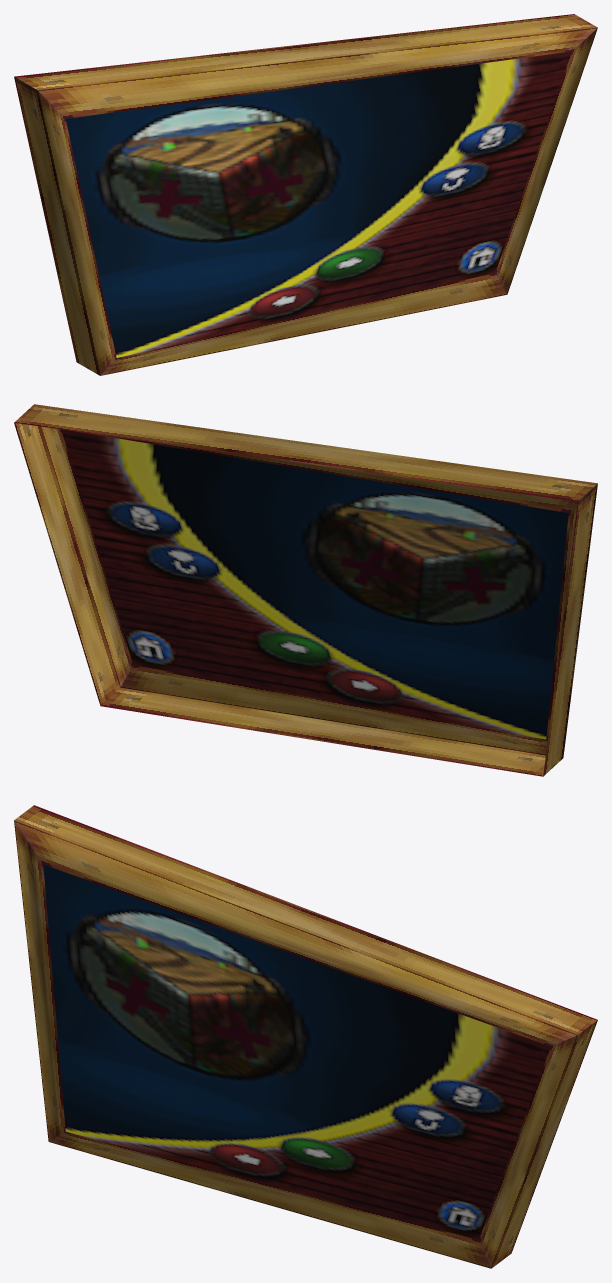
Rendered from World_Select_Sign.FBX.
3 renders of one model, top to bottom at view 1: azimuth 30°, elevation 25°; view 2: azimuth 150°, elevation 25°; view 3: azimuth 330°, elevation 25°, orthographic. The views are drawn at different scales.
Visible parts, largest first — view 1: sign; view 2: sign; view 3: sign.
Boxes of the visible parts, x1,y1,x2,y2 form: sign: [14, 14, 597, 375]; sign: [14, 404, 597, 776]; sign: [14, 805, 597, 1268].
Size of the model in its own units: 349 by 190 by 39.45.
